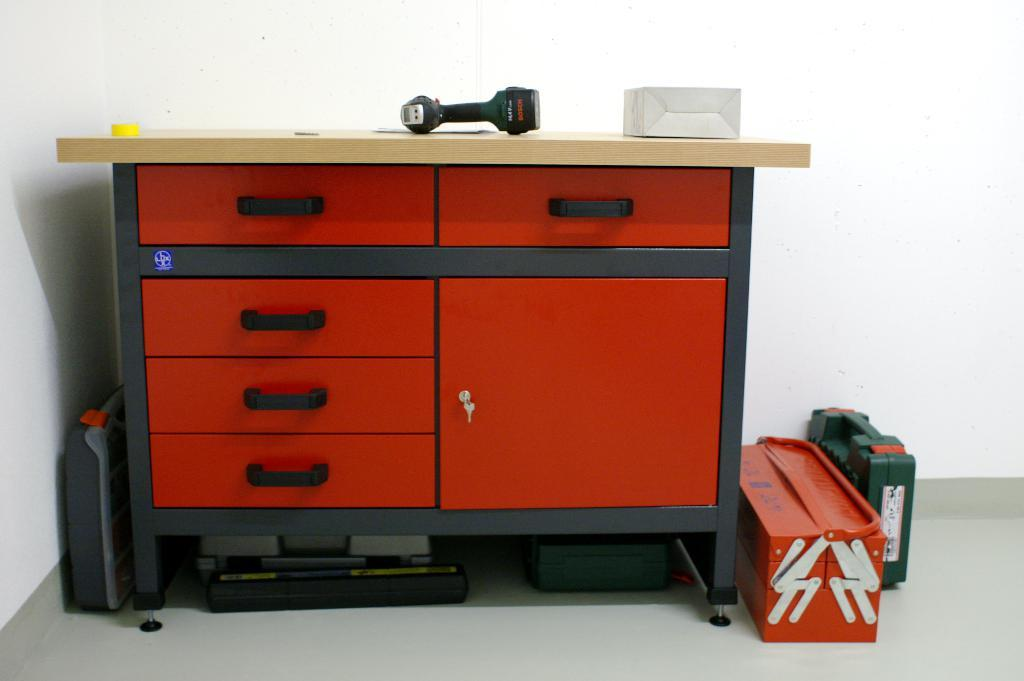cabinet_door: (440, 279, 718, 506), (138, 166, 438, 242), (442, 167, 732, 245), (142, 281, 436, 354), (152, 432, 438, 507), (148, 359, 438, 430)
handle: (540, 192, 638, 221), (232, 190, 326, 218), (244, 383, 327, 414), (238, 306, 328, 334), (244, 461, 330, 486)
